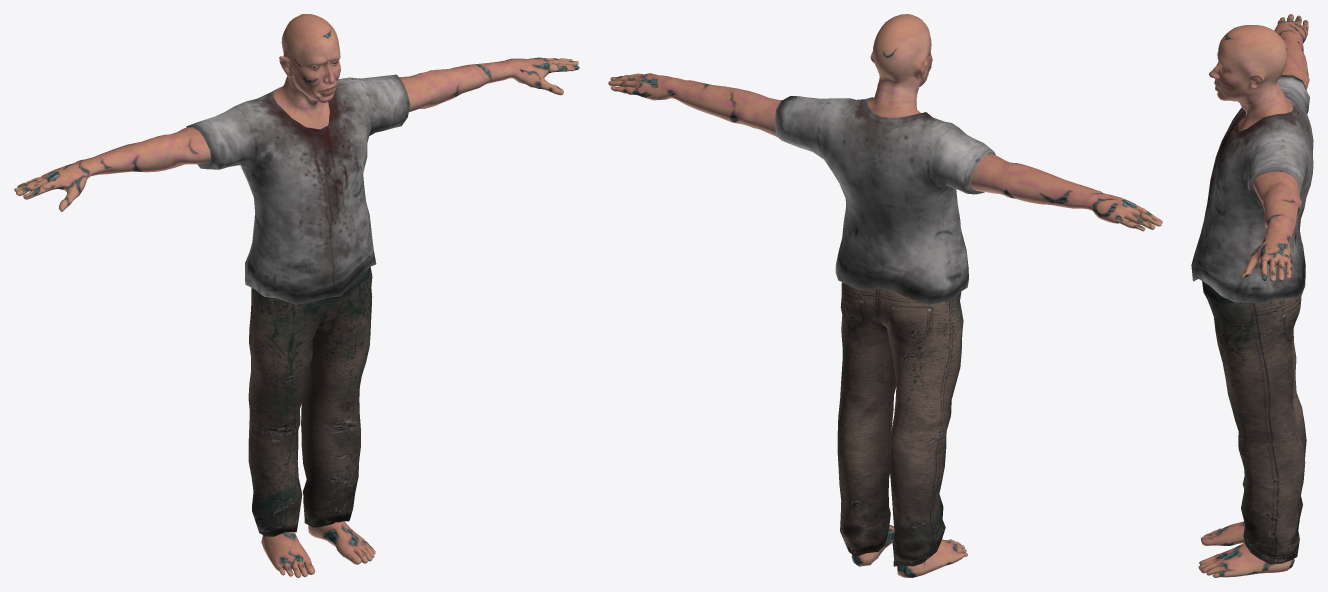
The model's file is Male Zombie.obj.
The picture shows the model from 3 angles, left to right: view 1: azimuth 30°, elevation 25°; view 2: azimuth 150°, elevation 25°; view 3: azimuth 270°, elevation 25°; orthographic projection.
Parts seen in each view (by area): view 1: Tops, Bottoms, Body; view 2: Bottoms, Tops, Body; view 3: Bottoms, Tops, Body.
Boxes of the visible parts, box(x1,y1,x2,y2) form: Tops: box(186, 74, 410, 304); Bottoms: box(248, 267, 372, 536); Body: box(14, 14, 579, 577); Bottoms: box(837, 282, 963, 566); Tops: box(775, 96, 995, 304); Body: box(608, 14, 1162, 577); Bottoms: box(1202, 281, 1306, 564); Tops: box(1191, 75, 1313, 303); Body: box(1198, 14, 1309, 577).
Size of the model in its own units: 193 by 179 by 37.25.
Materials: 1 (1 with a texture image).
